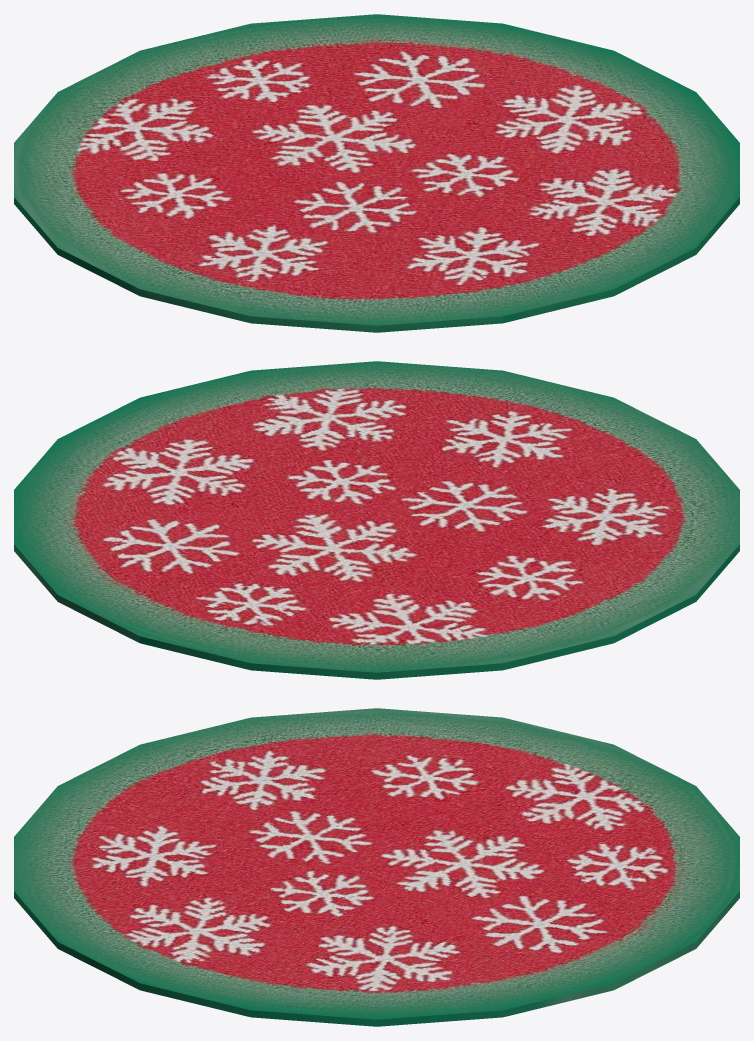
File: roundrug1_naughty_1.FBX
3 views of the same model, one above another, from view 1: azimuth 30°, elevation 25°; view 2: azimuth 150°, elevation 25°; view 3: azimuth 270°, elevation 25° (orthographic).
Parts seen in each view (by area): view 1: roundrug_naughty_1; view 2: roundrug_naughty_1; view 3: roundrug_naughty_1.
Boxes of the visible parts, left/top/right/bottom form: roundrug_naughty_1: left=14, top=14, right=739, bottom=332; roundrug_naughty_1: left=14, top=361, right=739, bottom=679; roundrug_naughty_1: left=14, top=708, right=739, bottom=1026.
Bounding box in the file's own units: 149 × 147 × 1.58.
